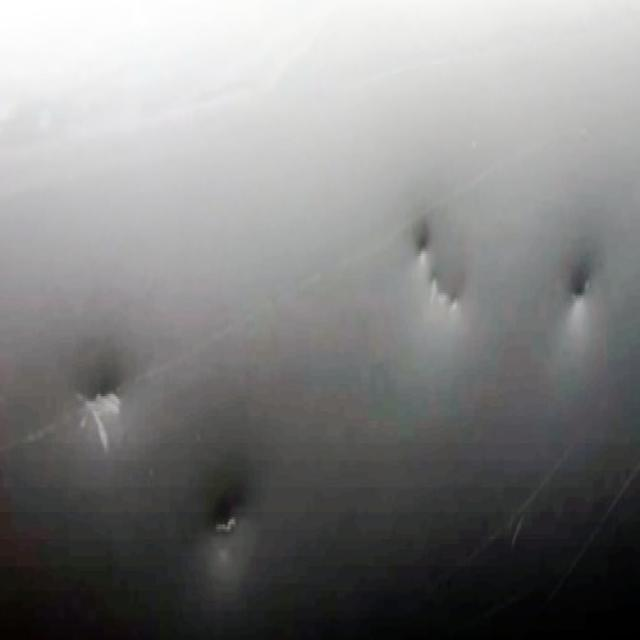dent: (194, 478, 277, 609), (399, 214, 485, 340), (88, 357, 136, 434), (553, 244, 598, 321)
